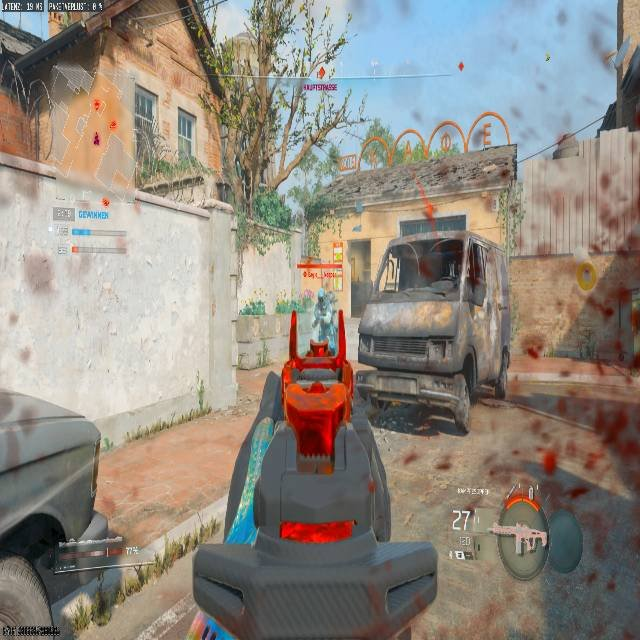player: (310, 283, 337, 344), (312, 282, 332, 320)
